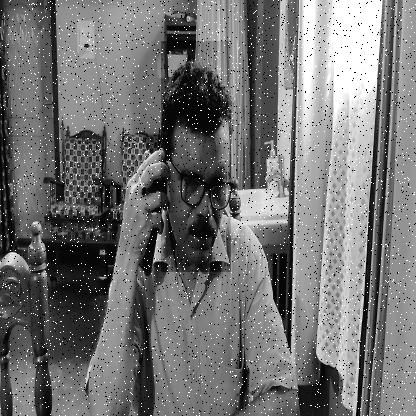Distracted: (161, 41, 231, 272)
